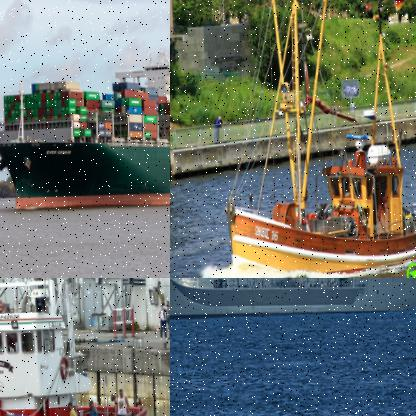Fishing Boat: (215, 0, 415, 277), (0, 278, 153, 415)
Merchant Ship: (0, 40, 169, 211)
Military Ship: (170, 278, 415, 322)
